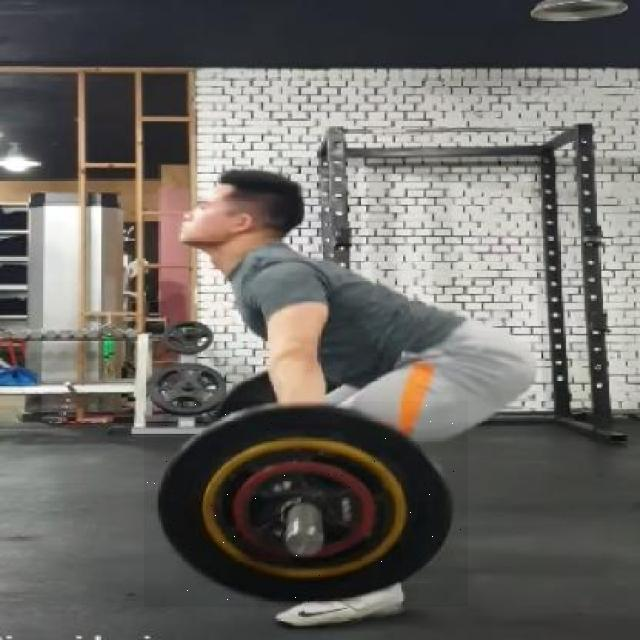barbell: (145, 402, 469, 608)
